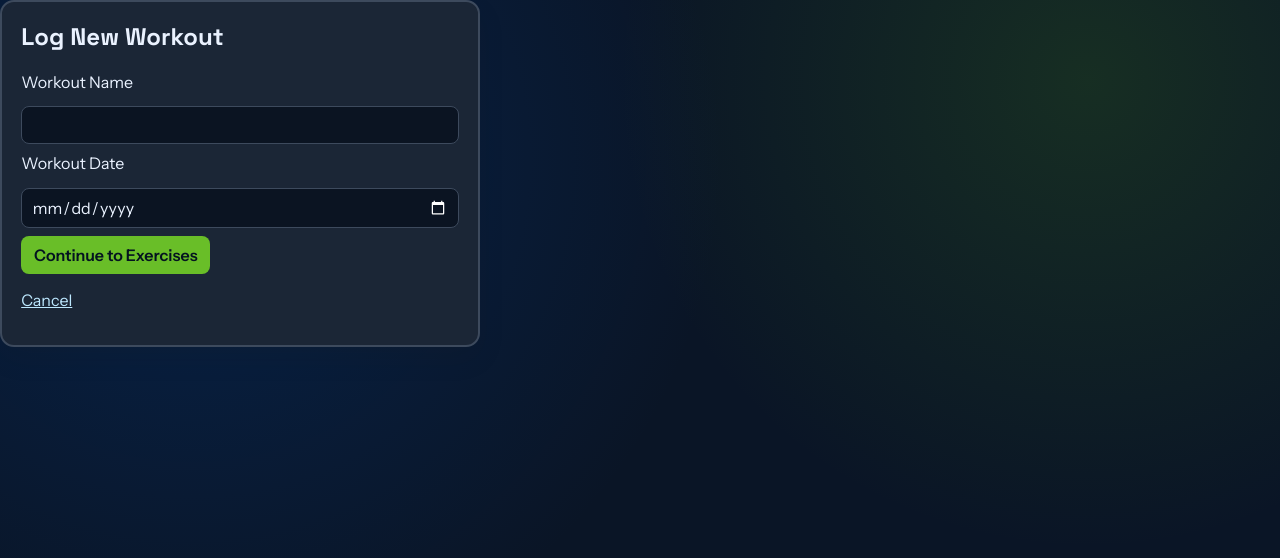
Scenario: NewWorkoutPage › shows a validation error when date is empty
Type "Legs Day" into the field labelled "Workout Name" at (240,126), box [21,106,459,144]
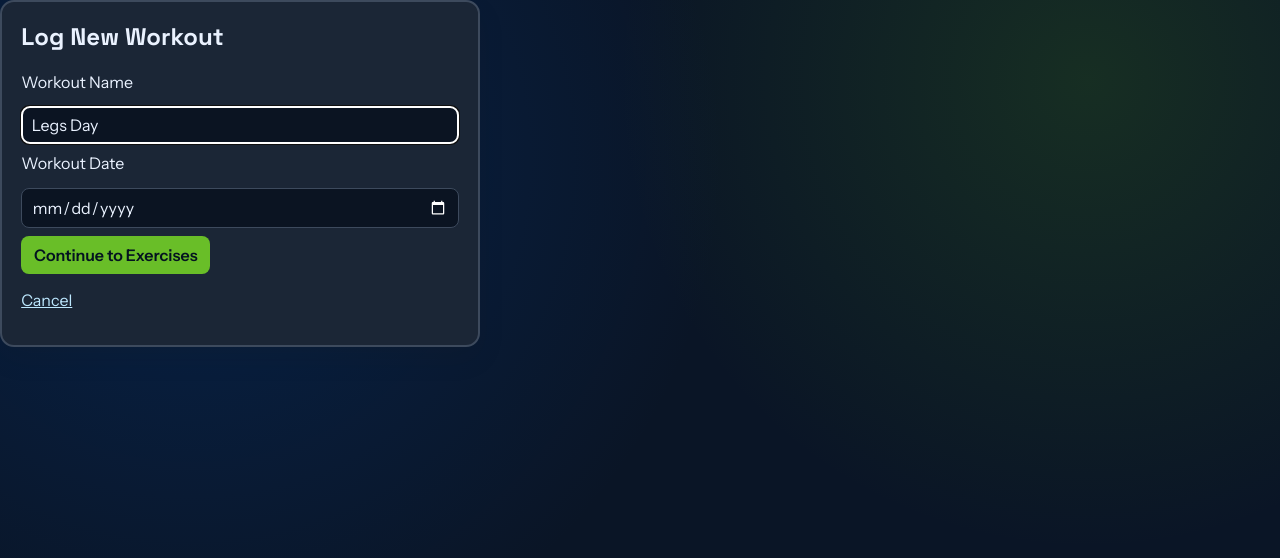
Click the button "Continue to Exercises" at (116,255), box [21,236,210,274]
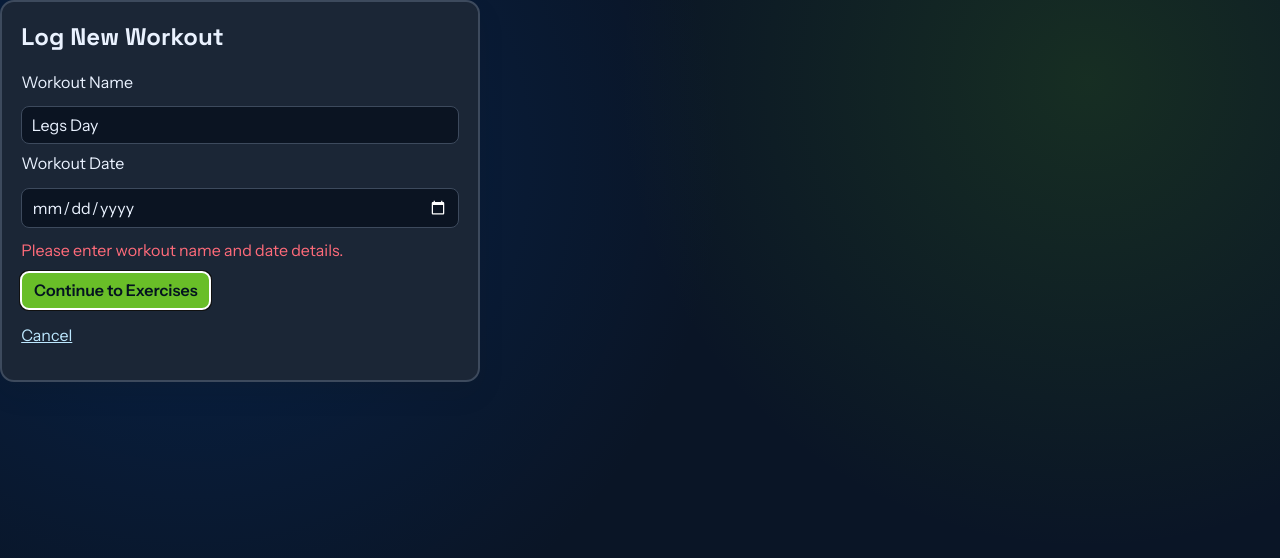
Check: the text "Please enter workout name and date details." is shown, box [21,240,343,260]
